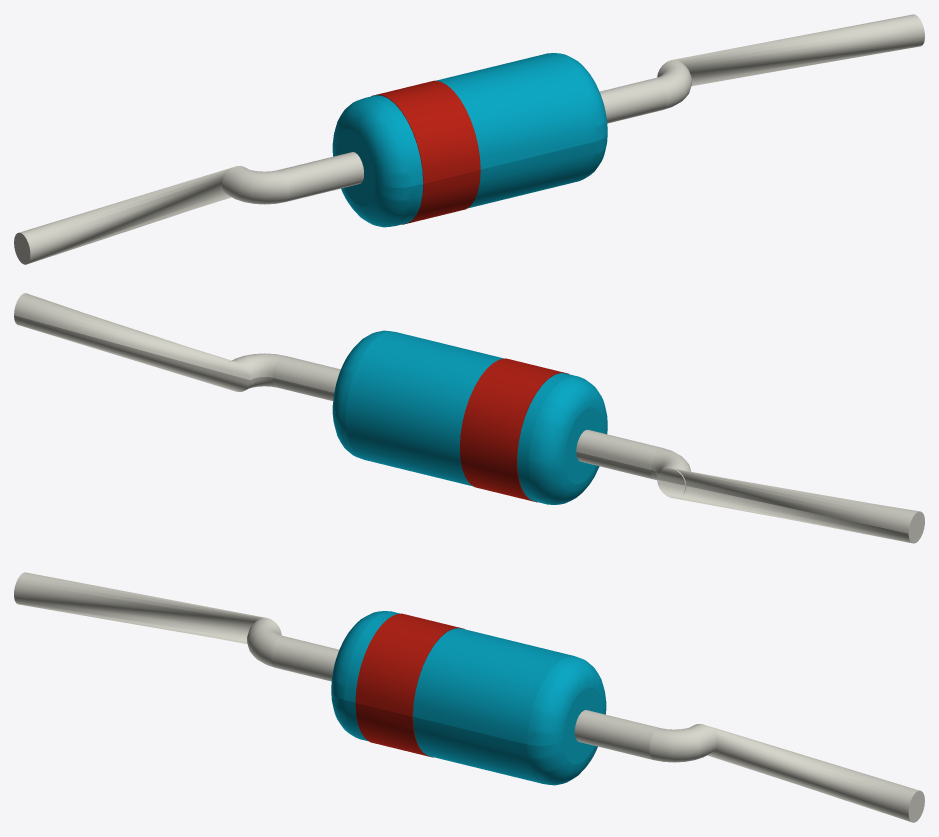
Rendered from diode.glb.
3 views of the same model, one above another, from view 1: azimuth 30°, elevation 25°; view 2: azimuth 150°, elevation 25°; view 3: azimuth 330°, elevation 25° (orthographic).
Visible parts, largest first — view 1: plastic-0.00-0.36-0.52, metal-0.6, plastic-0.45-0.01-0.00; view 2: plastic-0.00-0.36-0.52, metal-0.6, plastic-0.45-0.01-0.00; view 3: plastic-0.00-0.36-0.52, metal-0.6, plastic-0.45-0.01-0.00.
Boxes of the visible parts, left/top/right/bottom form: plastic-0.00-0.36-0.52: left=332, top=53, right=607, bottom=227; metal-0.6: left=14, top=14, right=924, bottom=264; plastic-0.45-0.01-0.00: left=371, top=80, right=480, bottom=224; plastic-0.00-0.36-0.52: left=332, top=330, right=607, bottom=504; metal-0.6: left=14, top=293, right=924, bottom=543; plastic-0.45-0.01-0.00: left=459, top=358, right=568, bottom=502; plastic-0.00-0.36-0.52: left=331, top=611, right=606, bottom=785; metal-0.6: left=14, top=572, right=924, bottom=822; plastic-0.45-0.01-0.00: left=355, top=613, right=464, bottom=757.
Size of the model in its own units: 15.66 by 2.02 by 2.02.
